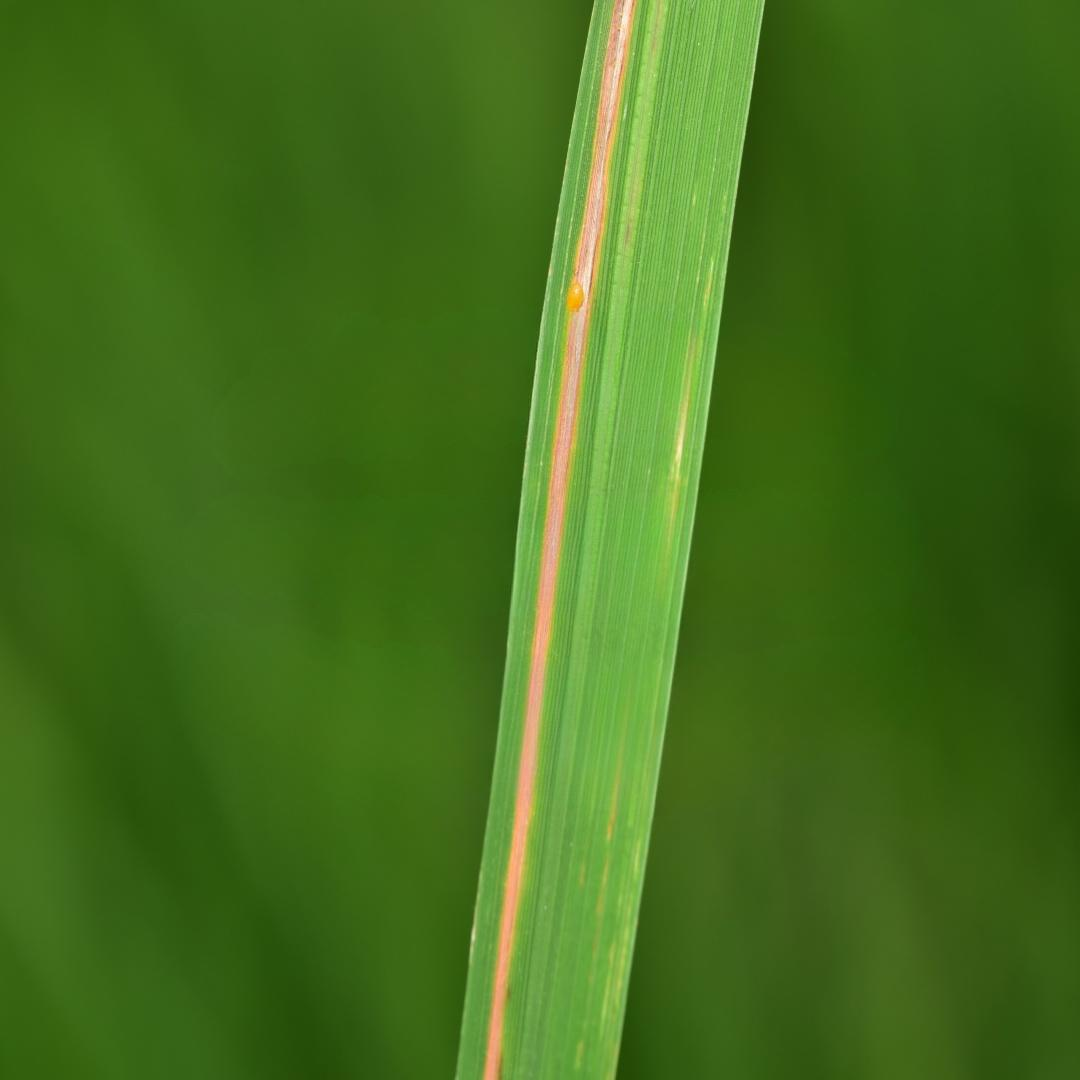BLB: (483, 0, 636, 1079)
LEAF: (456, 0, 763, 1079)
